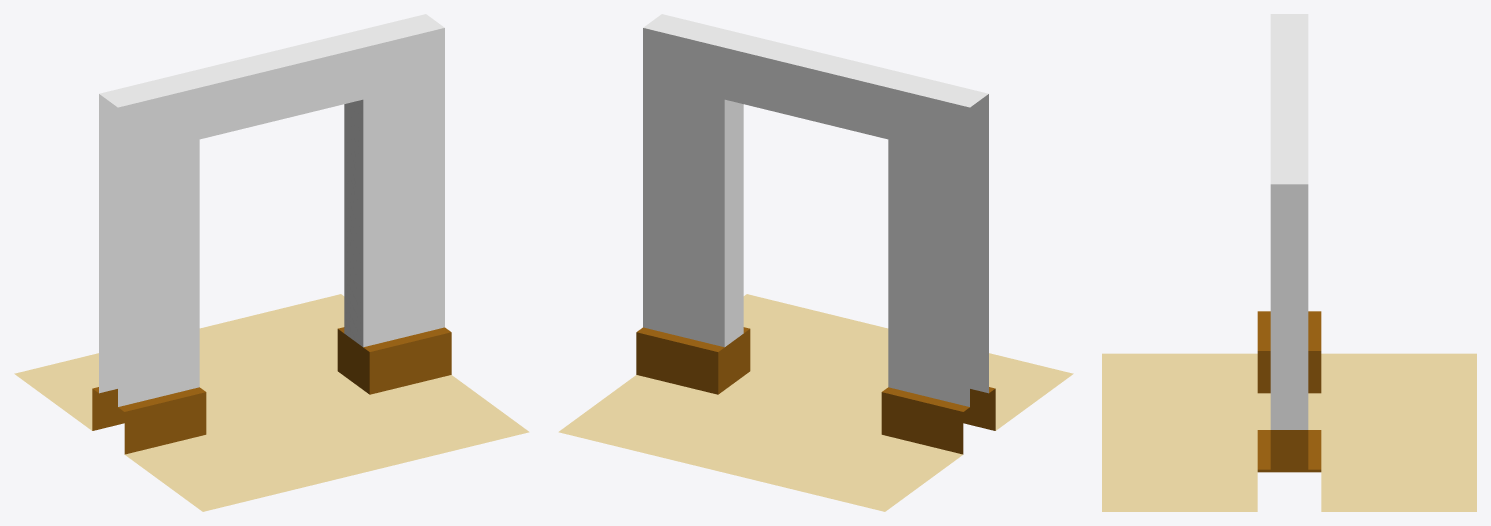
Rendered from I_Wall_Straight_Door.fbx.
The picture shows the model from 3 angles, left to right: view 1: azimuth 30°, elevation 25°; view 2: azimuth 150°, elevation 25°; view 3: azimuth 270°, elevation 25°; orthographic projection.
Parts seen in each view (by area): view 1: I_Wall_Straight_Door; view 2: I_Wall_Straight_Door; view 3: I_Wall_Straight_Door.
Boxes of the visible parts, x1,y1,x2,y2 form: I_Wall_Straight_Door: (14,14,529,511); I_Wall_Straight_Door: (558,14,1073,511); I_Wall_Straight_Door: (1102,14,1476,511).
Bounding box in the file's own units: 200 × 200 × 200.
Materials: 1 (1 with a texture image).
